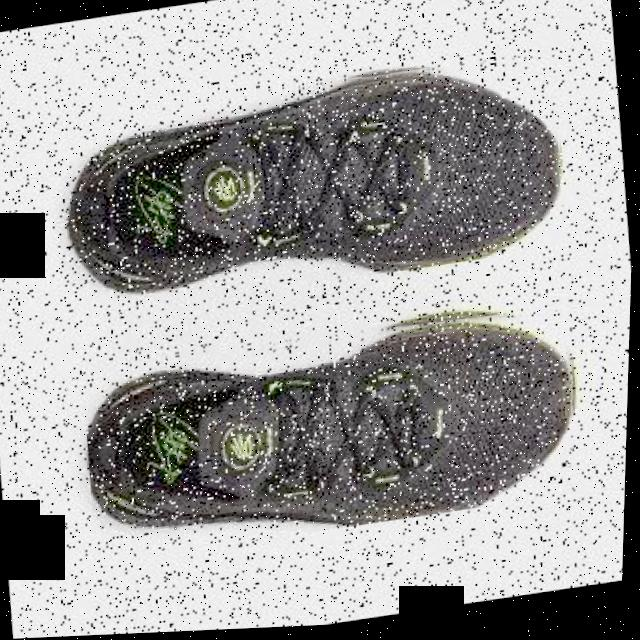shoe: (54, 48, 575, 321), (79, 296, 593, 566)
